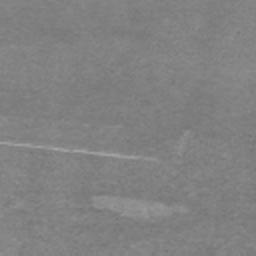Finishing roll printing: (0, 141, 158, 162)
